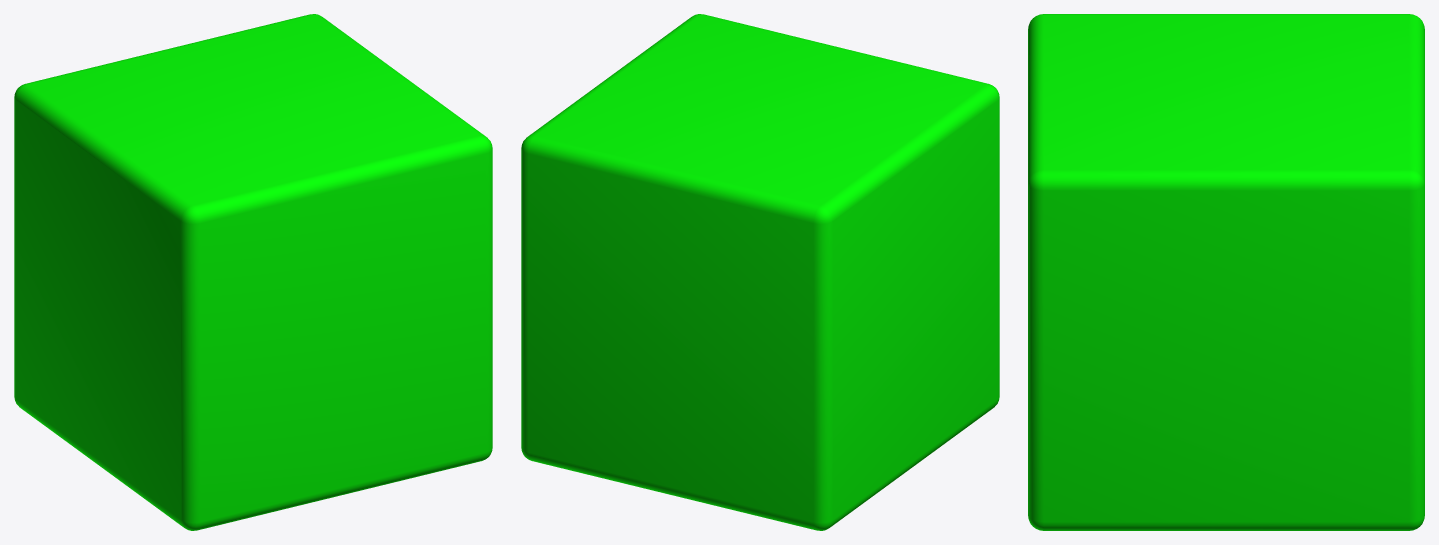
The model's file is cube-green.glb.
3 renders of one model, left to right at view 1: azimuth 30°, elevation 25°; view 2: azimuth 150°, elevation 25°; view 3: azimuth 270°, elevation 25°, orthographic. The views are drawn at different scales.
Parts seen in each view (by area): view 1: Cube; view 2: Cube; view 3: Cube.
Boxes of the visible parts, left/top/right/bottom form: Cube: left=14, top=14, right=492, bottom=530; Cube: left=521, top=14, right=999, bottom=530; Cube: left=1028, top=14, right=1424, bottom=530.
Bounding box in the file's own units: 0.2 × 0.2 × 0.2.
